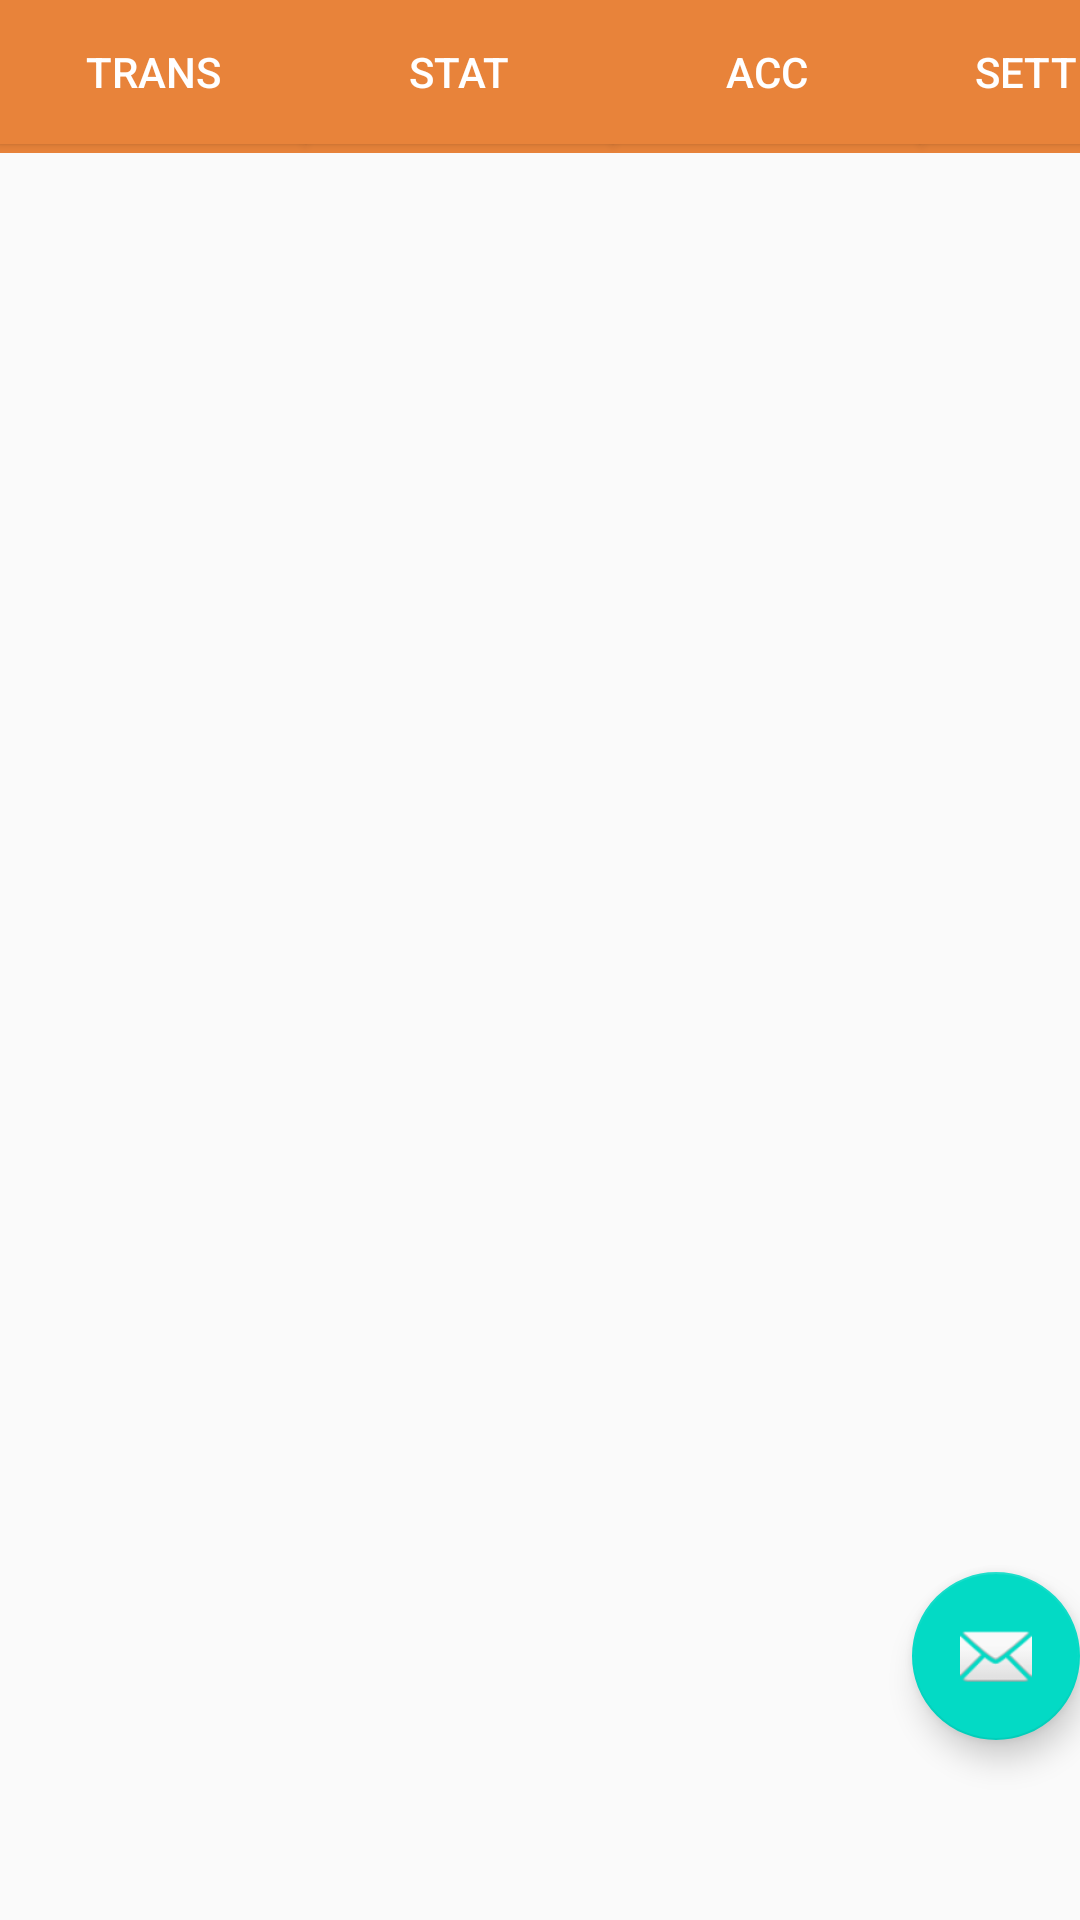

Named icons in this screenshot (1080 x 1920) and their bounding boxes, region(x1, y1, x2, y2):
email: region(912, 1572, 1080, 1740)
